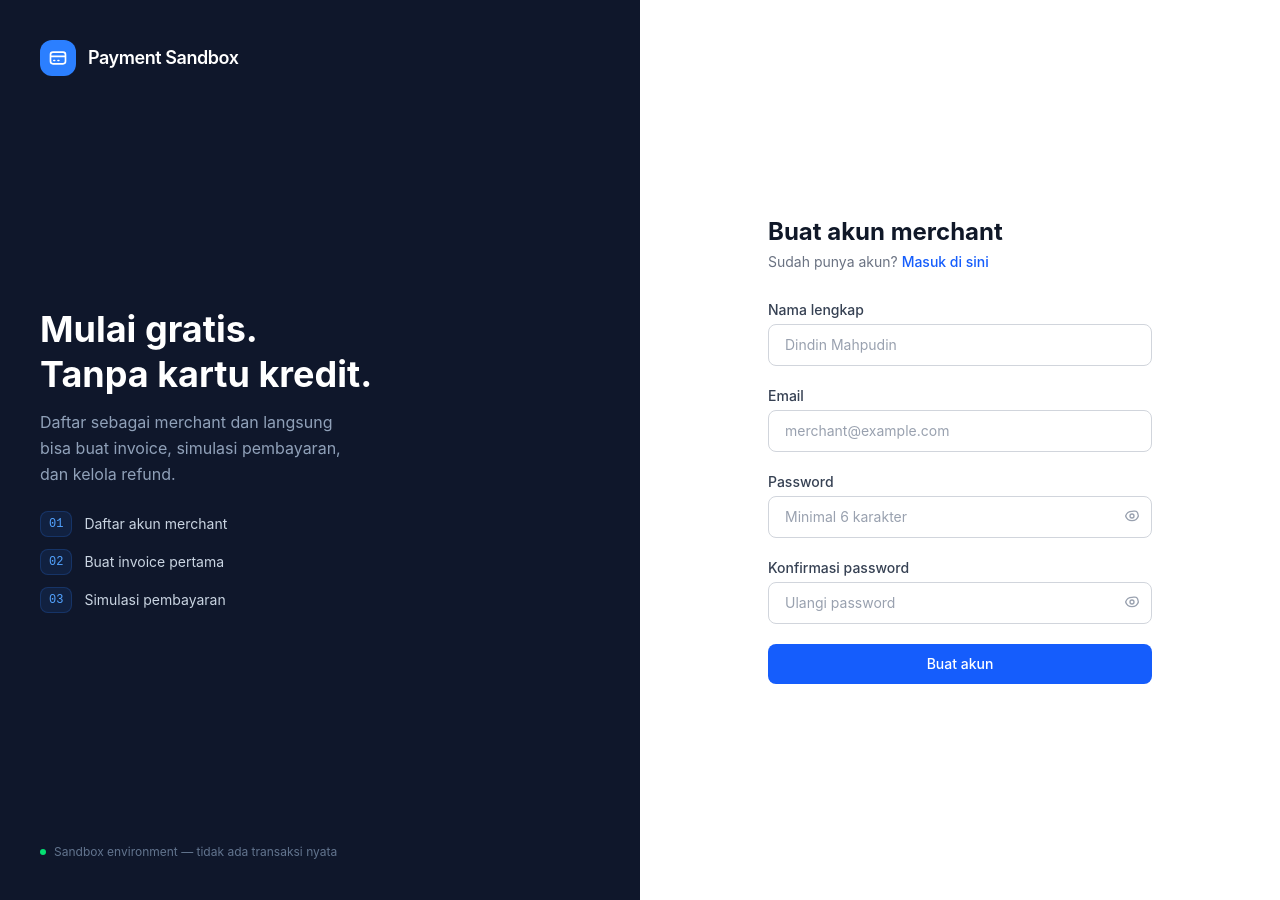
Test: RegisterPage › shows error when name is too short
Type "Bu" into the field labelled "Nama lengkap" at (960, 345), box [768, 324, 1152, 366]
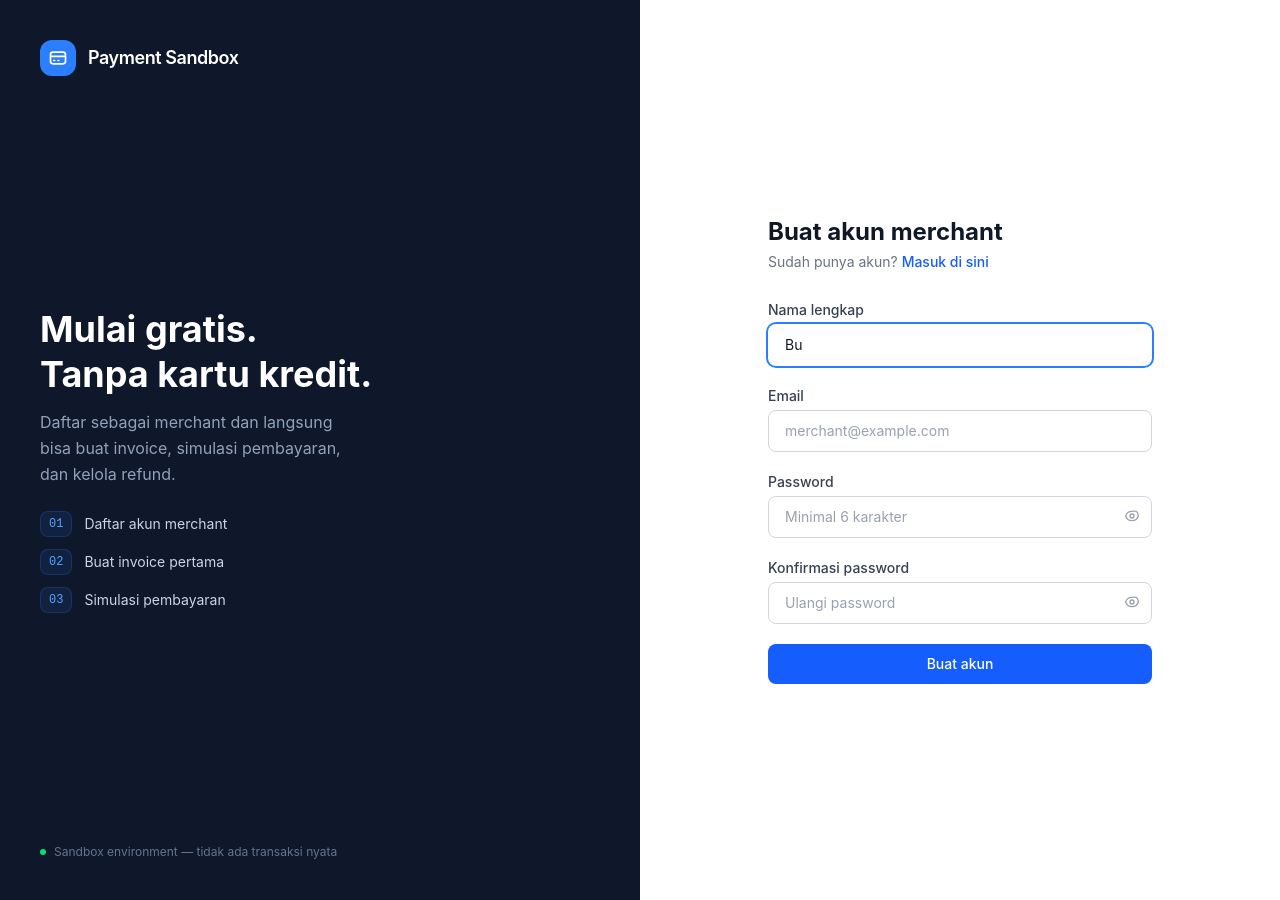
Click the button "Buat akun" at (960, 664), box [768, 644, 1152, 684]
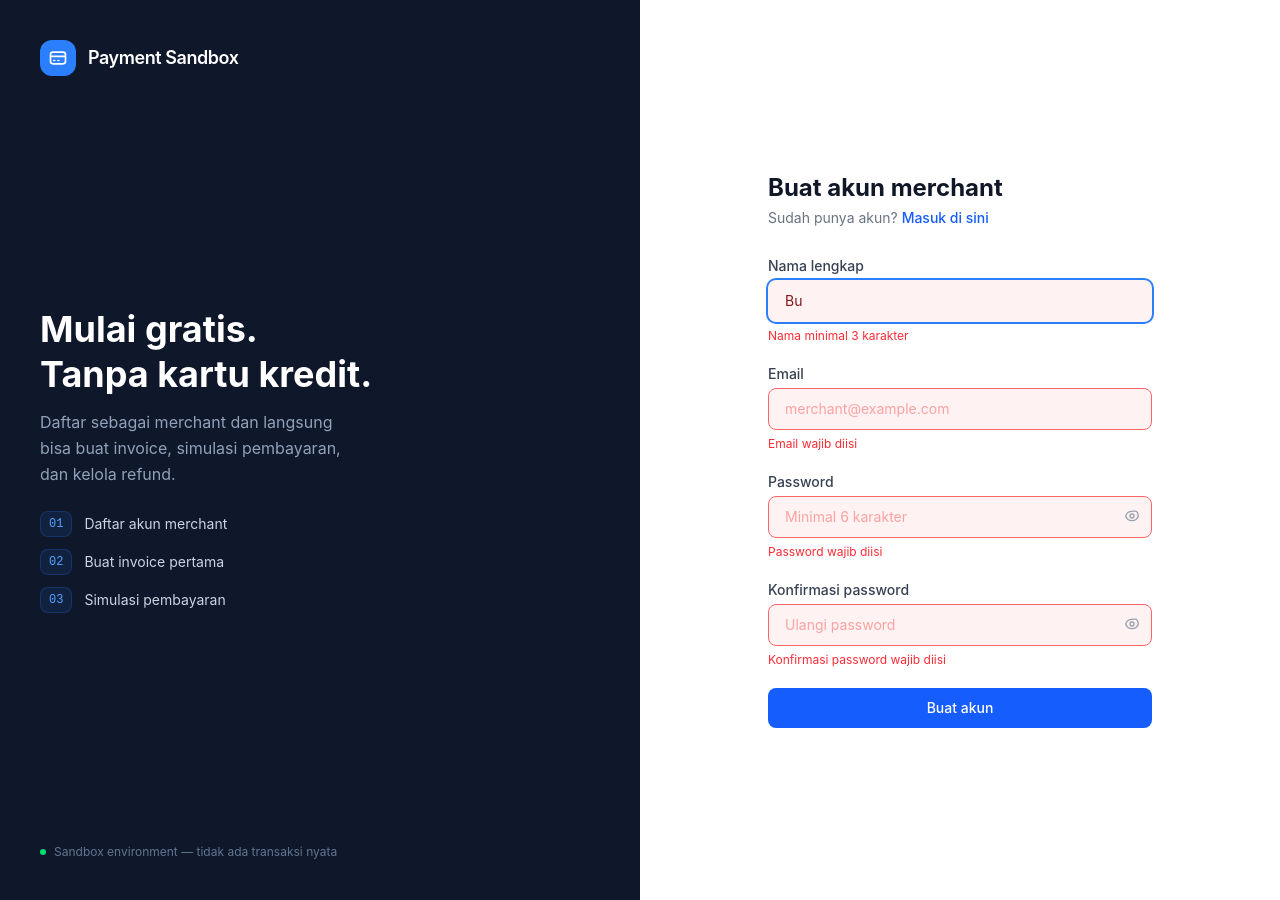
Result: the text "Nama minimal 3 karakter" is shown at [768, 328, 909, 343]
